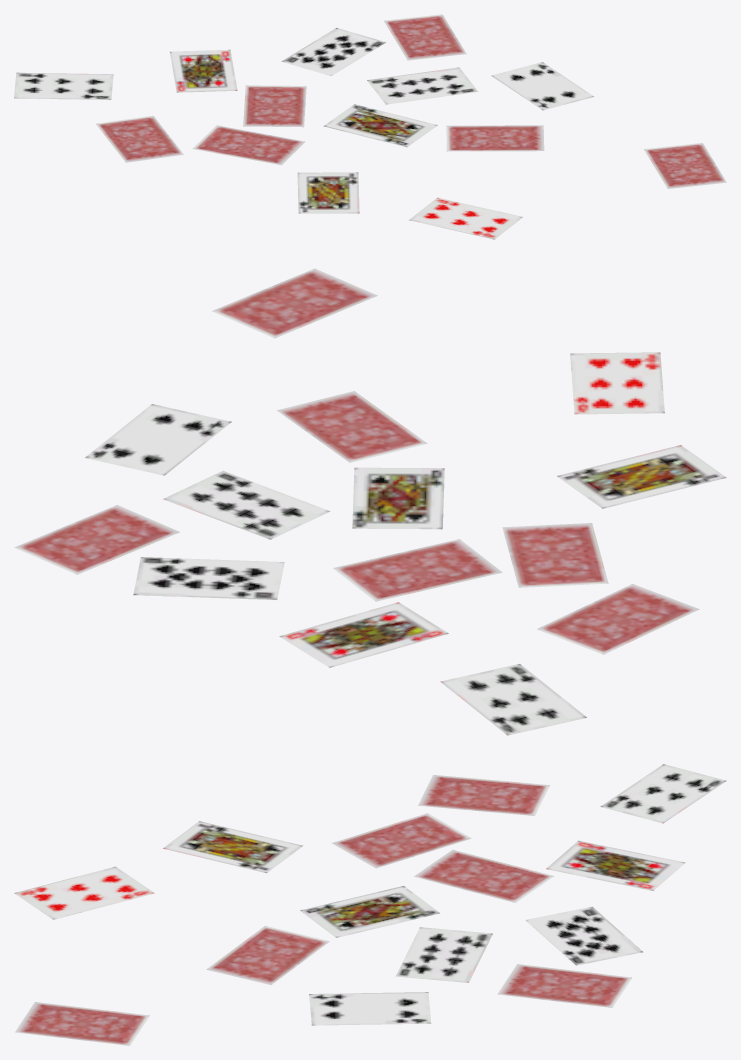
Rendered from scatteredcards2.fbx.
3 views of the same model, one above another, from view 1: azimuth 30°, elevation 25°; view 2: azimuth 150°, elevation 25°; view 3: azimuth 270°, elevation 25° (orthographic). The views are drawn at different scales.
Visible parts, largest first — view 1: mesh_0; view 2: mesh_0; view 3: mesh_0.
Part boxes in pixels (left/top/right/bottom): mesh_0: left=14, top=14, right=726, bottom=239; mesh_0: left=14, top=268, right=726, bottom=735; mesh_0: left=14, top=764, right=726, bottom=1045.
Size of the model in its own units: 78.32 by 7.63e-06 by 83.7.
1 material, 1 textured.
